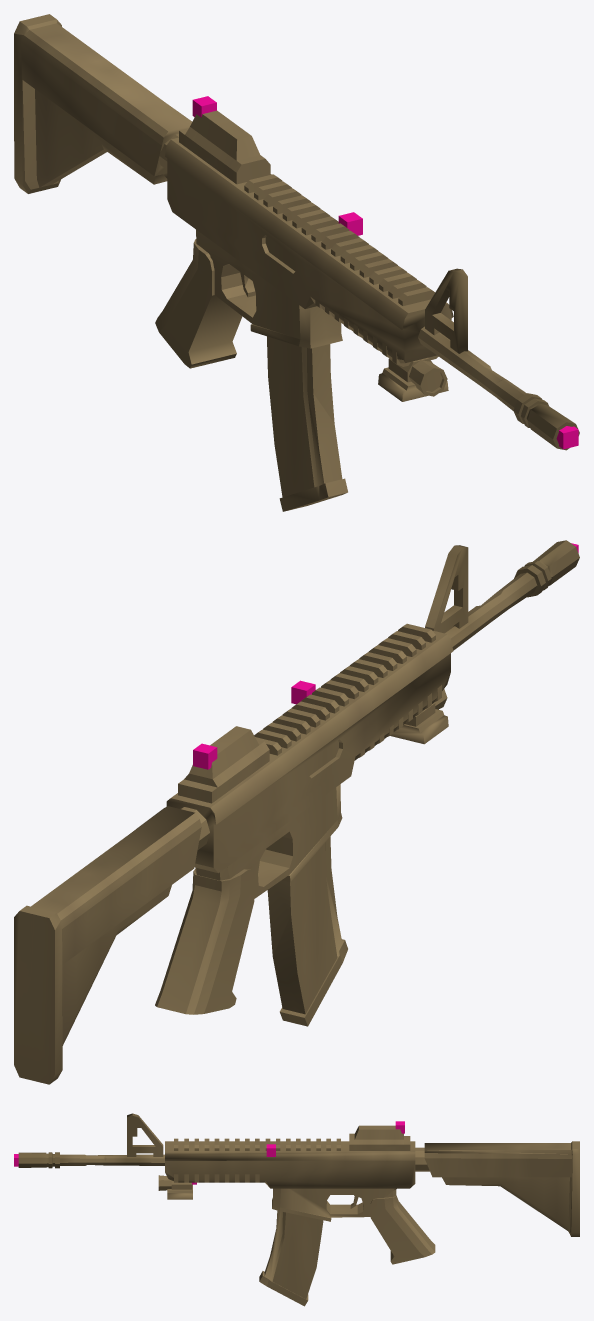
3 renders of one model, top to bottom at view 1: azimuth 30°, elevation 25°; view 2: azimuth 150°, elevation 25°; view 3: azimuth 270°, elevation 25°, orthographic. The views are drawn at different scales.
Parts seen in each view (by area): view 1: ar77; view 2: ar77; view 3: ar77.
Boxes of the visible parts, x1,y1,x2,y2 form: ar77: [14, 14, 579, 511]; ar77: [14, 540, 579, 1084]; ar77: [18, 1113, 579, 1306].
Bounding box in the file's own units: 0.0555 × 0.3339 × 0.9075.
Materials: 2 (1 with a texture image).
